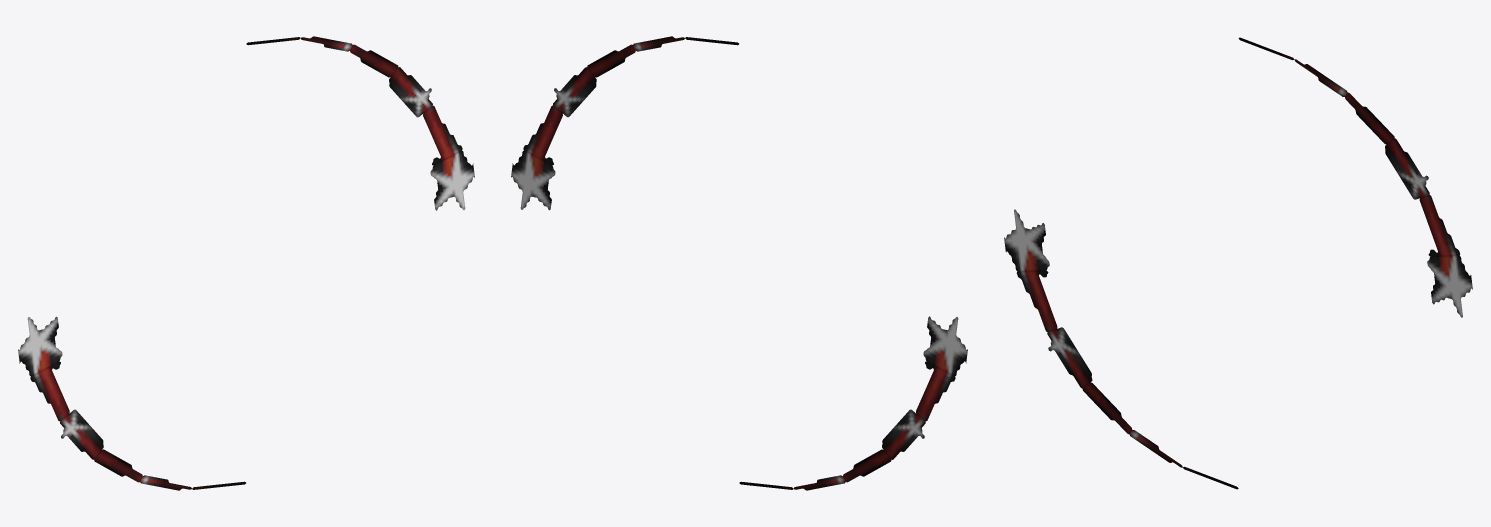
The picture shows the model from 3 angles, left to right: view 1: azimuth 30°, elevation 25°; view 2: azimuth 150°, elevation 25°; view 3: azimuth 330°, elevation 25°; orthographic projection. The views are drawn at different scales.
Visible parts, largest first — view 1: T1L6M005_13; view 2: T1L6M005_13; view 3: T1L6M005_13.
Boxes of the visible parts, left/top/right/bottom form: T1L6M005_13: left=18, top=36, right=474, bottom=490; T1L6M005_13: left=511, top=36, right=967, bottom=490; T1L6M005_13: left=1004, top=37, right=1472, bottom=489.
Size of the model in its own units: 2.06 by 2.06 by 0.000977.
